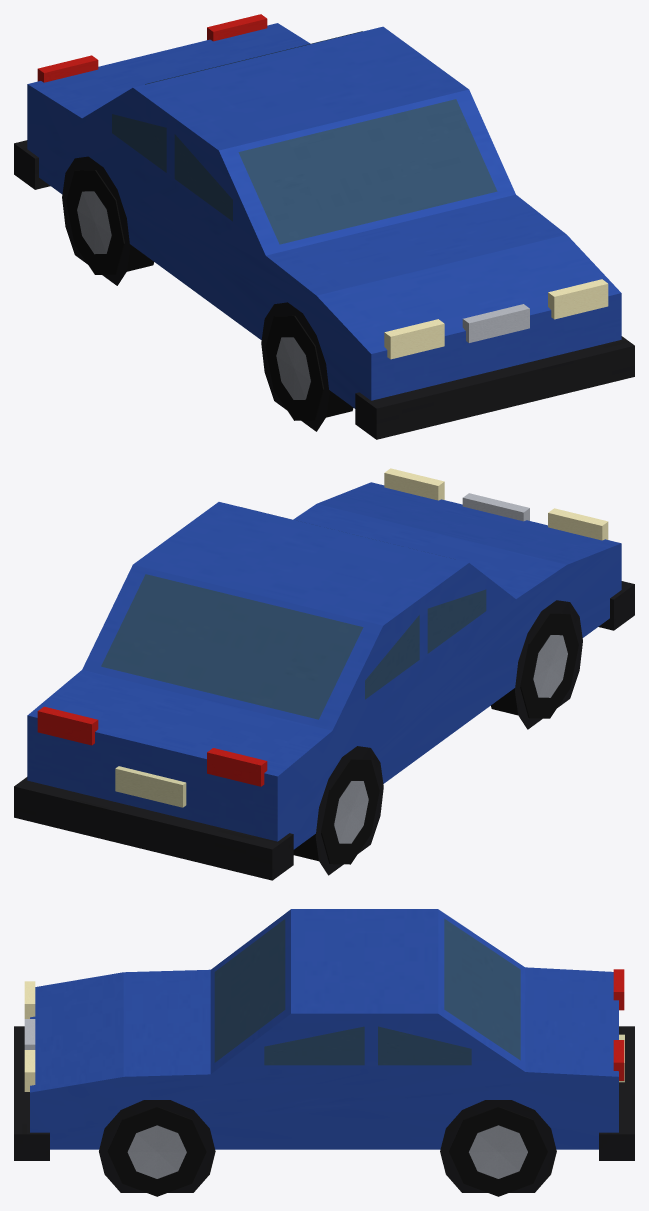
The model's file is saloon-blue-far.glb.
The picture shows the model from 3 angles, top to bottom: view 1: azimuth 30°, elevation 25°; view 2: azimuth 150°, elevation 25°; view 3: azimuth 270°, elevation 25°; orthographic projection. The views are drawn at different scales.
Visible parts, largest first — view 1: saloon-blue-far; view 2: saloon-blue-far; view 3: saloon-blue-far.
Part boxes in pixels (x1=…): saloon-blue-far: x1=14, y1=14, x2=634, y2=439; saloon-blue-far: x1=14, y1=468, x2=634, y2=880; saloon-blue-far: x1=14, y1=909, x2=634, y2=1196.
Size of the model in its own units: 1.91 by 1.5 by 4.64.
1 material, 1 textured.
